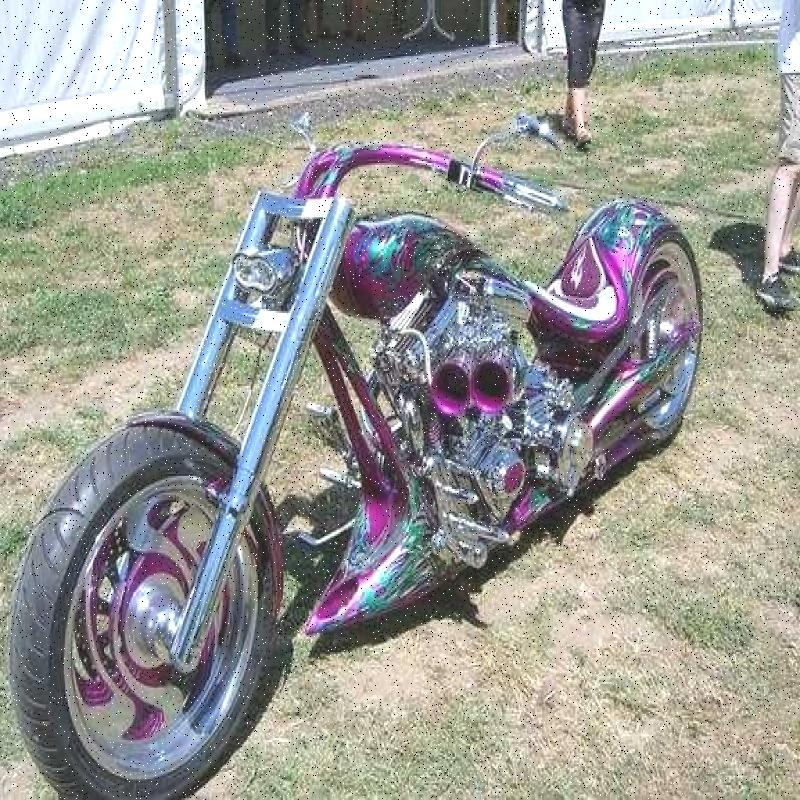bike: (24, 68, 702, 798)
